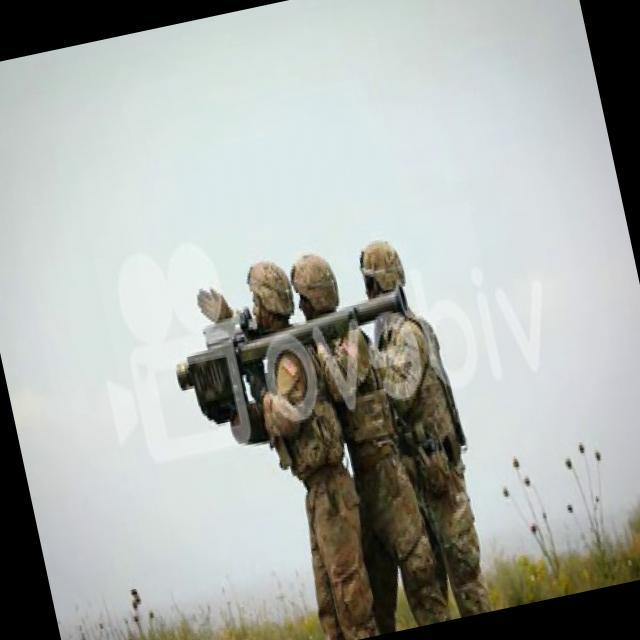rocket: (168, 276, 425, 431)
